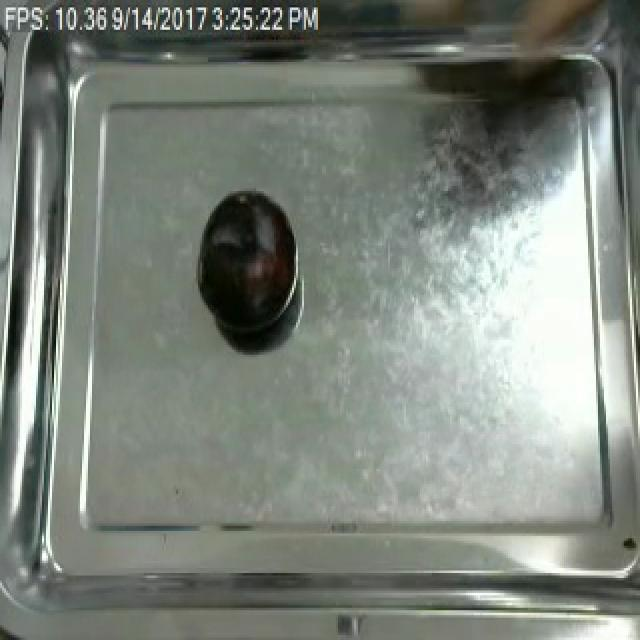Fruit: (192, 188, 296, 342)
